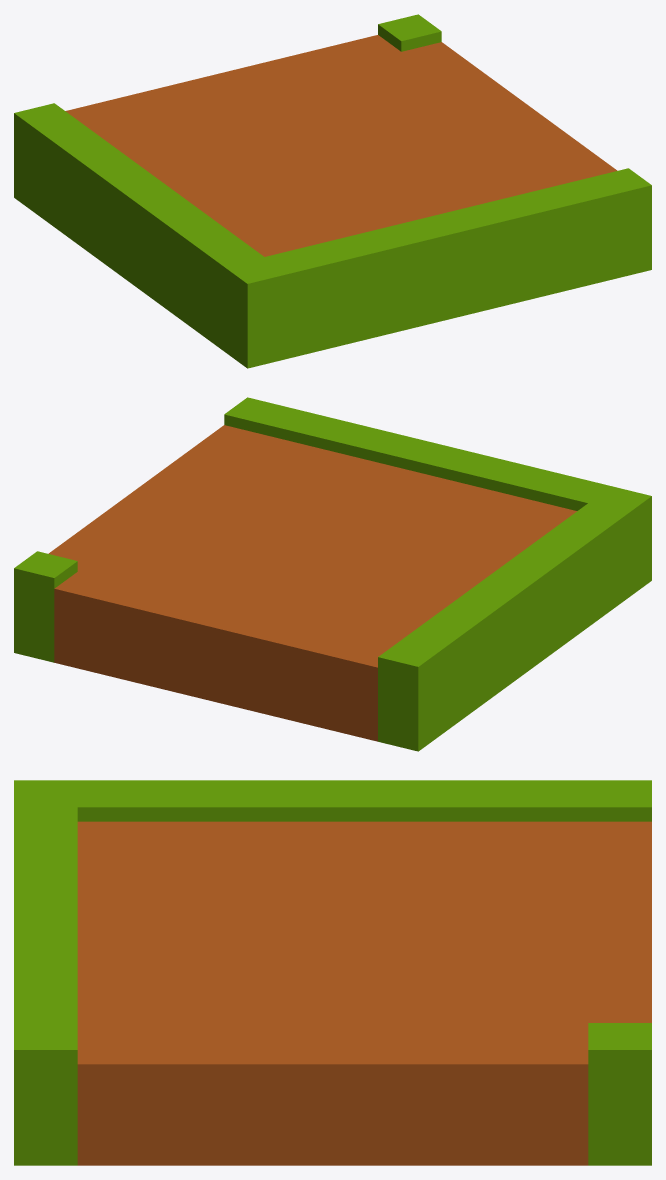
The model's file is TileGround_07.fbx.
3 renders of one model, top to bottom at view 1: azimuth 30°, elevation 25°; view 2: azimuth 150°, elevation 25°; view 3: azimuth 270°, elevation 25°, orthographic. The views are drawn at different scales.
Parts seen in each view (by area): view 1: TileGround_07; view 2: TileGround_07; view 3: TileGround_07.
Boxes of the visible parts, x1,y1,x2,y2 form: TileGround_07: [14, 14, 651, 368]; TileGround_07: [14, 397, 651, 751]; TileGround_07: [14, 780, 651, 1165].
Bounding box in the file's own units: 500 × 100 × 500.
